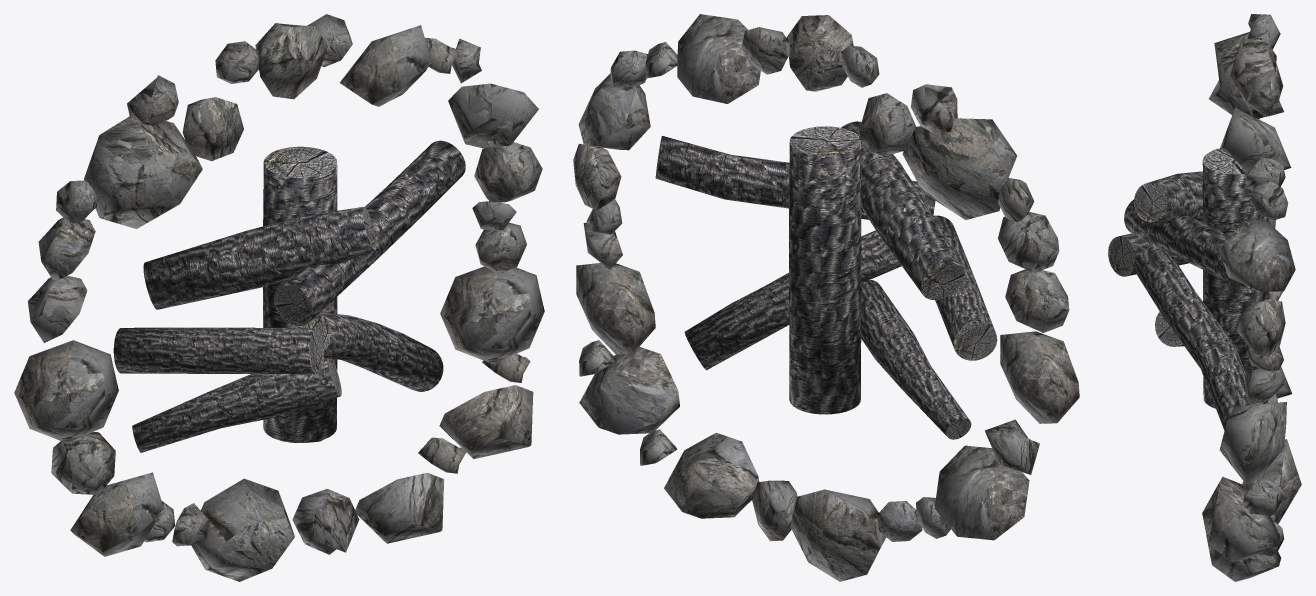
Rendered from campfire01.obj.
The picture shows the model from 3 angles, left to right: view 1: azimuth 30°, elevation 25°; view 2: azimuth 150°, elevation 25°; view 3: azimuth 270°, elevation 25°; orthographic projection. The views are drawn at different scales.
Visible parts, largest first — view 1: Cylinder.008_Cylinder.003, Cylinder.005_Cylinder.009, Cylinder.004_Cylinder.008, Cylinder.001_Cylinder.004, Cylinder, Cylinder.002_Cylinder.005, Cylinder.003_Cylinder.006; view 2: Cylinder.008_Cylinder.003, Cylinder, Cylinder.005_Cylinder.009, Cylinder.002_Cylinder.005, Cylinder.001_Cylinder.004, Cylinder.003_Cylinder.006, Cylinder.004_Cylinder.008; view 3: Cylinder.008_Cylinder.003, Cylinder.003_Cylinder.006, Cylinder, Cylinder.001_Cylinder.004, Cylinder.005_Cylinder.009, Cylinder.004_Cylinder.008, Cylinder.002_Cylinder.005.
Boxes of the visible parts, box(x1,y1,x2,y2) form: Cylinder.008_Cylinder.003: box(14, 14, 544, 581); Cylinder.005_Cylinder.009: box(143, 207, 376, 309); Cylinder.004_Cylinder.008: box(113, 327, 324, 373); Cylinder.001_Cylinder.004: box(274, 140, 465, 325); Cylinder: box(263, 146, 337, 442); Cylinder.002_Cylinder.005: box(132, 358, 341, 452); Cylinder.003_Cylinder.006: box(291, 312, 443, 391); Cylinder.008_Cylinder.003: box(573, 14, 1079, 581); Cylinder: box(789, 126, 861, 414); Cylinder.005_Cylinder.009: box(841, 121, 964, 299); Cylinder.002_Cylinder.005: box(861, 280, 971, 439); Cylinder.001_Cylinder.004: box(655, 136, 935, 219); Cylinder.003_Cylinder.006: box(684, 230, 901, 370); Cylinder.004_Cylinder.008: box(933, 215, 997, 360); Cylinder.008_Cylinder.003: box(1202, 14, 1301, 581); Cylinder.003_Cylinder.006: box(1133, 245, 1248, 430); Cylinder: box(1202, 148, 1269, 408); Cylinder.001_Cylinder.004: box(1124, 199, 1255, 289); Cylinder.005_Cylinder.009: box(1134, 171, 1203, 223); Cylinder.004_Cylinder.008: box(1108, 220, 1270, 276); Cylinder.002_Cylinder.005: box(1155, 311, 1183, 346).
Size of the model in its own units: 779 by 812 by 284.
